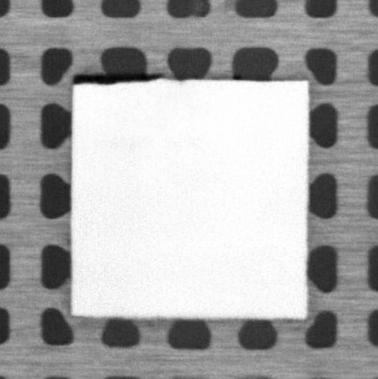DIE_BROKEN: (69, 71, 169, 86)
